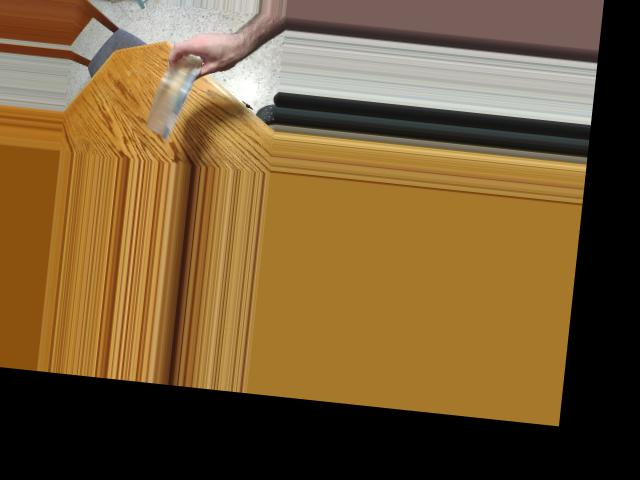cheese: (149, 42, 194, 142)
